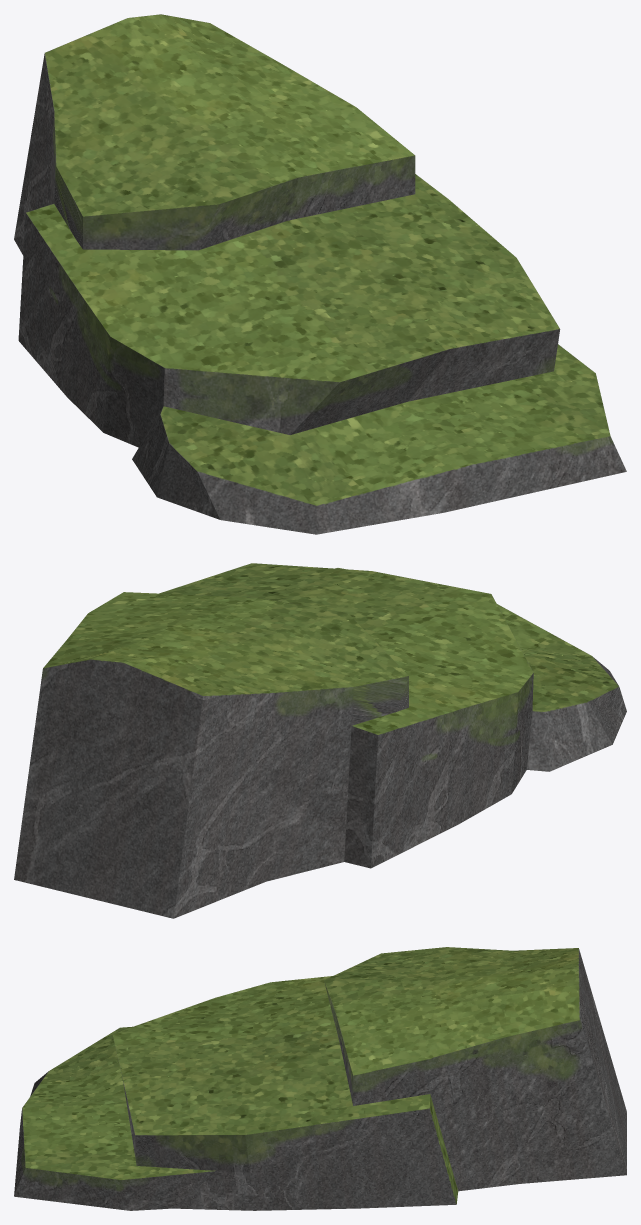
3 renders of one model, top to bottom at view 1: azimuth 30°, elevation 25°; view 2: azimuth 150°, elevation 25°; view 3: azimuth 270°, elevation 25°, orthographic. The views are drawn at different scales.
Visible parts, largest first — view 1: 3DObj_Land_6; view 2: 3DObj_Land_6; view 3: 3DObj_Land_6.
Part boxes in pixels (<box>): 3DObj_Land_6: <box>14,14,626,534</box>; 3DObj_Land_6: <box>14,563,626,918</box>; 3DObj_Land_6: <box>14,947,626,1210</box>.
Bounding box in the file's own units: 354 × 182 × 576.
1 material, 1 textured.
